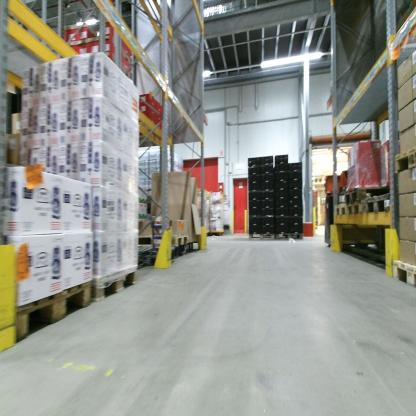pallet: (14, 268, 90, 348), (91, 262, 135, 303), (342, 183, 381, 202), (391, 259, 415, 288), (151, 233, 191, 250), (365, 190, 391, 216), (392, 147, 414, 175), (132, 232, 155, 253), (248, 230, 276, 246), (343, 199, 366, 217), (276, 230, 305, 243), (334, 202, 349, 217)
pallet_truck: (323, 167, 362, 251)
small_load_carrier: (275, 223, 290, 236), (260, 198, 277, 209), (248, 223, 262, 236), (260, 162, 275, 174), (260, 180, 275, 192), (288, 206, 304, 217), (274, 160, 290, 171), (261, 172, 275, 184), (288, 217, 304, 227), (289, 160, 302, 172), (290, 196, 304, 207), (275, 196, 289, 207), (248, 179, 262, 190), (274, 155, 289, 165), (289, 188, 304, 198), (260, 156, 275, 166), (261, 190, 276, 200), (261, 216, 276, 226), (289, 179, 302, 190), (288, 170, 302, 180), (262, 226, 276, 236), (288, 227, 303, 236), (276, 186, 289, 196), (248, 207, 262, 216), (275, 215, 290, 223), (275, 207, 290, 215), (248, 155, 260, 165), (248, 190, 261, 199), (274, 171, 288, 179), (248, 165, 260, 174), (261, 209, 276, 216), (249, 199, 261, 207), (249, 216, 262, 223), (276, 179, 288, 186), (248, 174, 262, 179)
